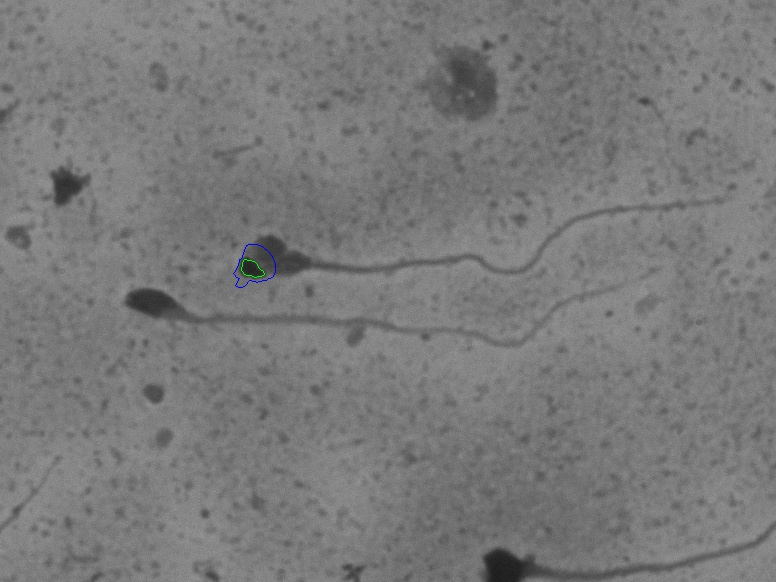Abnormal: (106, 267, 715, 371)
